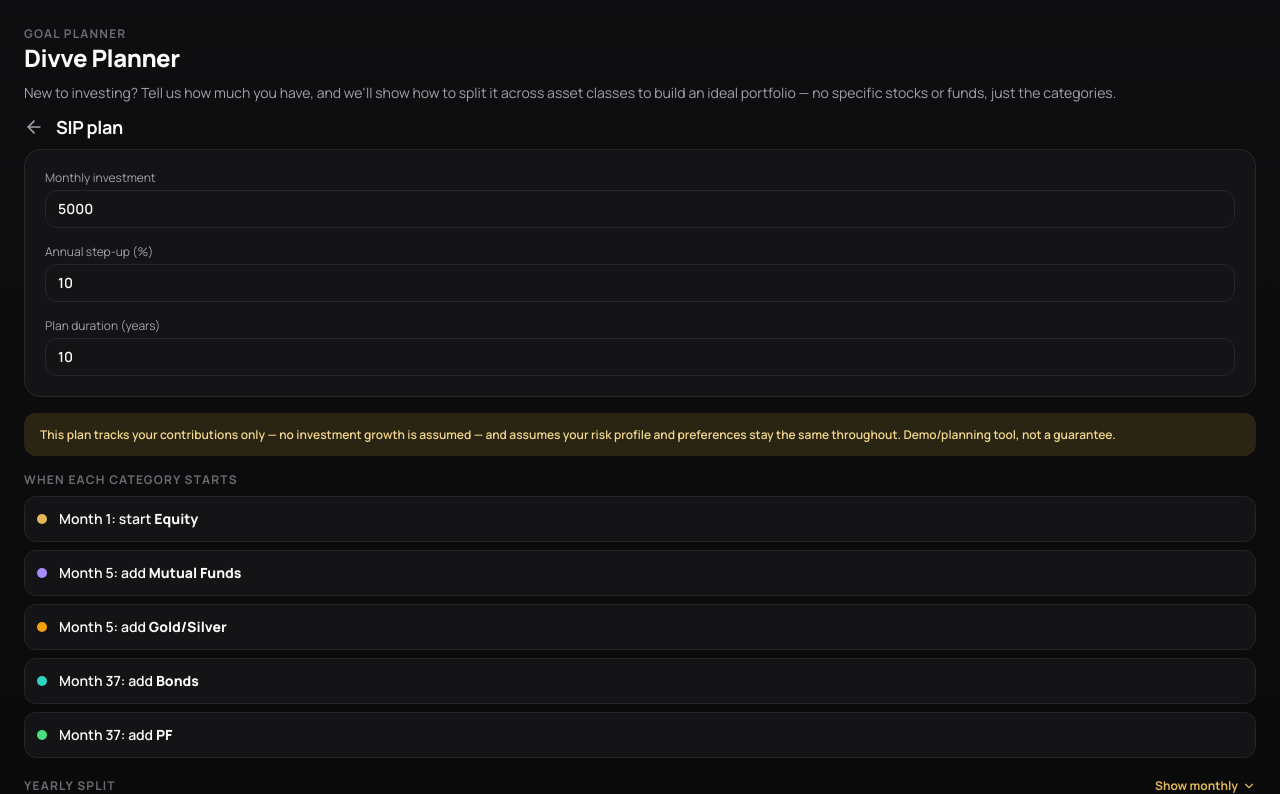
Test: Planner — SIP yearly/monthly toggle › switches back to yearly after switching to monthly
Click the button with test id "planner-expand-monthly-btn" at (1206, 786), box [1155,778,1256,793]
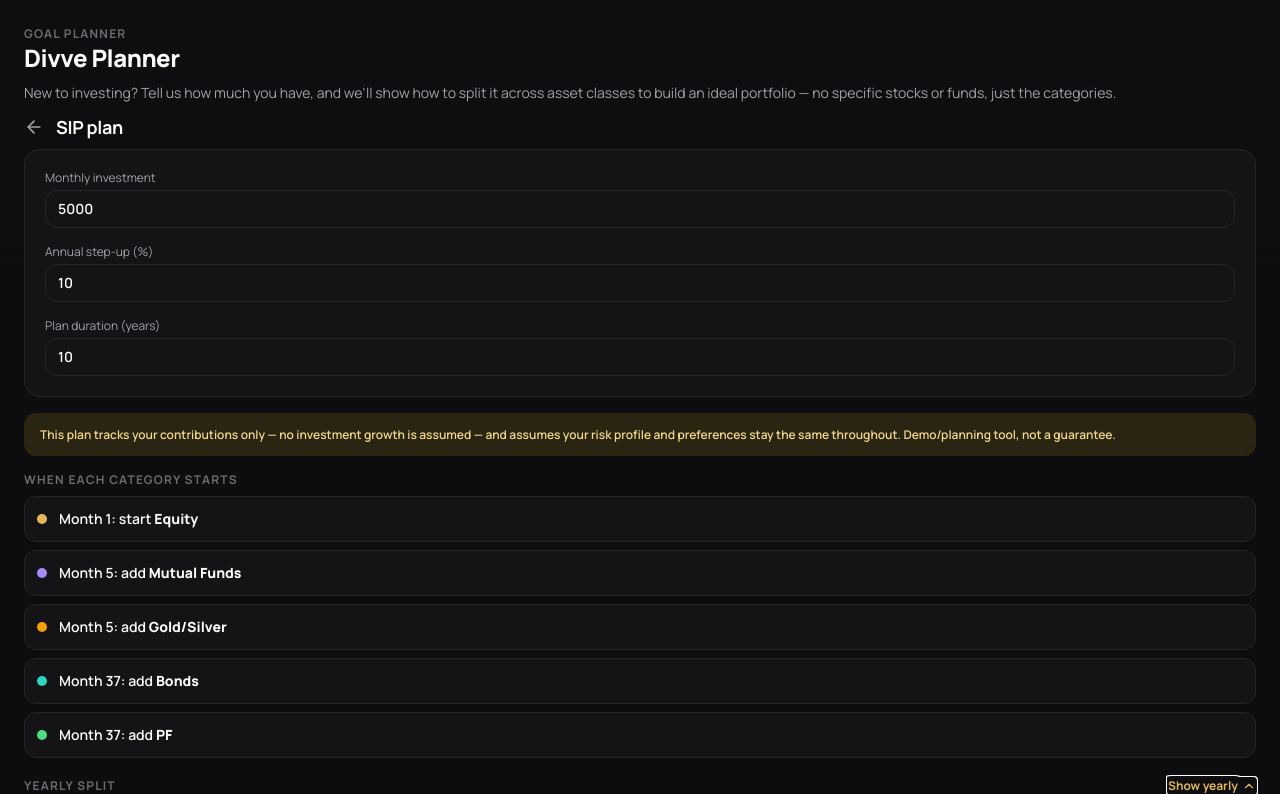
Result: the button with test id "planner-expand-monthly-btn" reads "Show yearly"
The actual bug: this second click must flip it back, not leave it stuck.
Click the button with test id "planner-expand-monthly-btn" at (1212, 786), box [1168,778,1256,793]
(page scrolled)
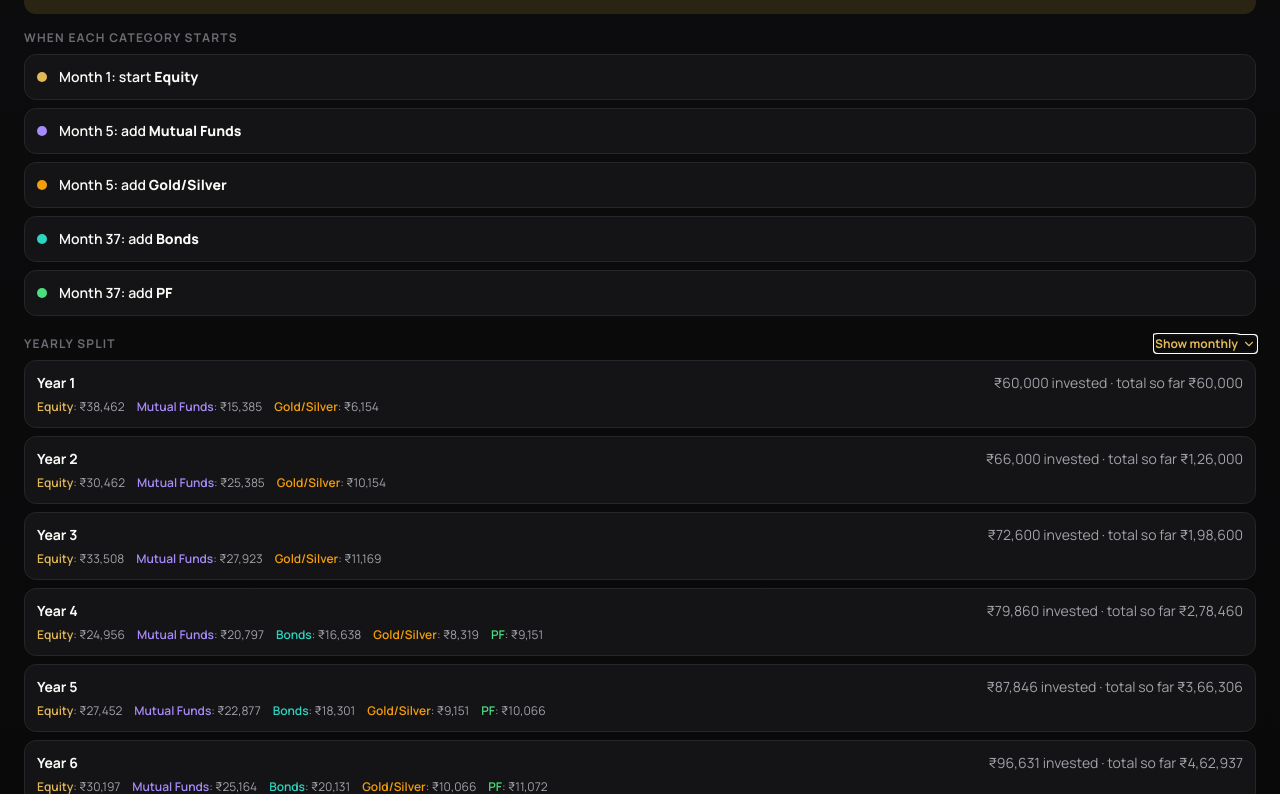
Result: the button with test id "planner-expand-monthly-btn" reads "Show monthly" at [1155,336,1256,352]
Result: the element with test id "planner-row-y-1" is shown at [24,360,1256,428]
